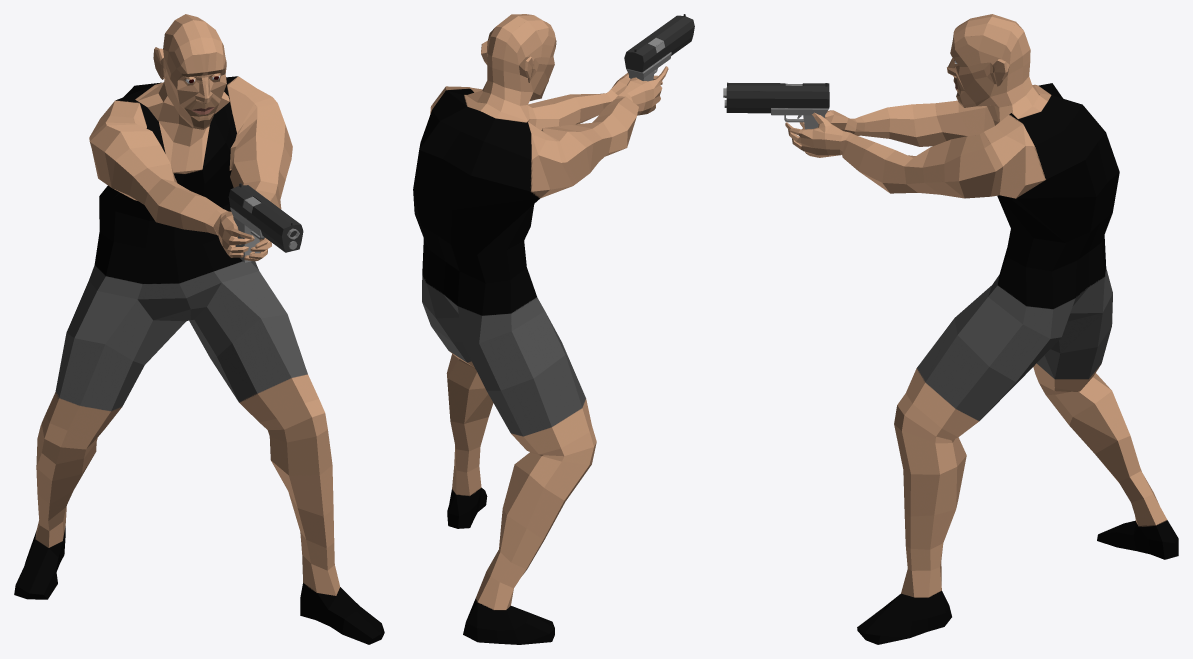
The model's file is PlayerShoot(34).obj.
3 views of the same model, side by side, from view 1: azimuth 30°, elevation 25°; view 2: azimuth 150°, elevation 25°; view 3: azimuth 270°, elevation 25° (orthographic). The views are drawn at different scales.
Visible parts, largest first — view 1: Plane002, Box003; view 2: Plane002, Box003; view 3: Plane002, Box003.
Boxes of the visible parts, left/top/right/bottom form: Plane002: left=14, top=14, right=384, bottom=644; Box003: left=228, top=183, right=303, bottom=262; Plane002: left=413, top=14, right=668, bottom=644; Box003: left=624, top=14, right=694, bottom=81; Plane002: left=785, top=14, right=1178, bottom=644; Box003: left=723, top=82, right=829, bottom=151.
Size of the model in its own units: 716 by 1665 by 1211.
